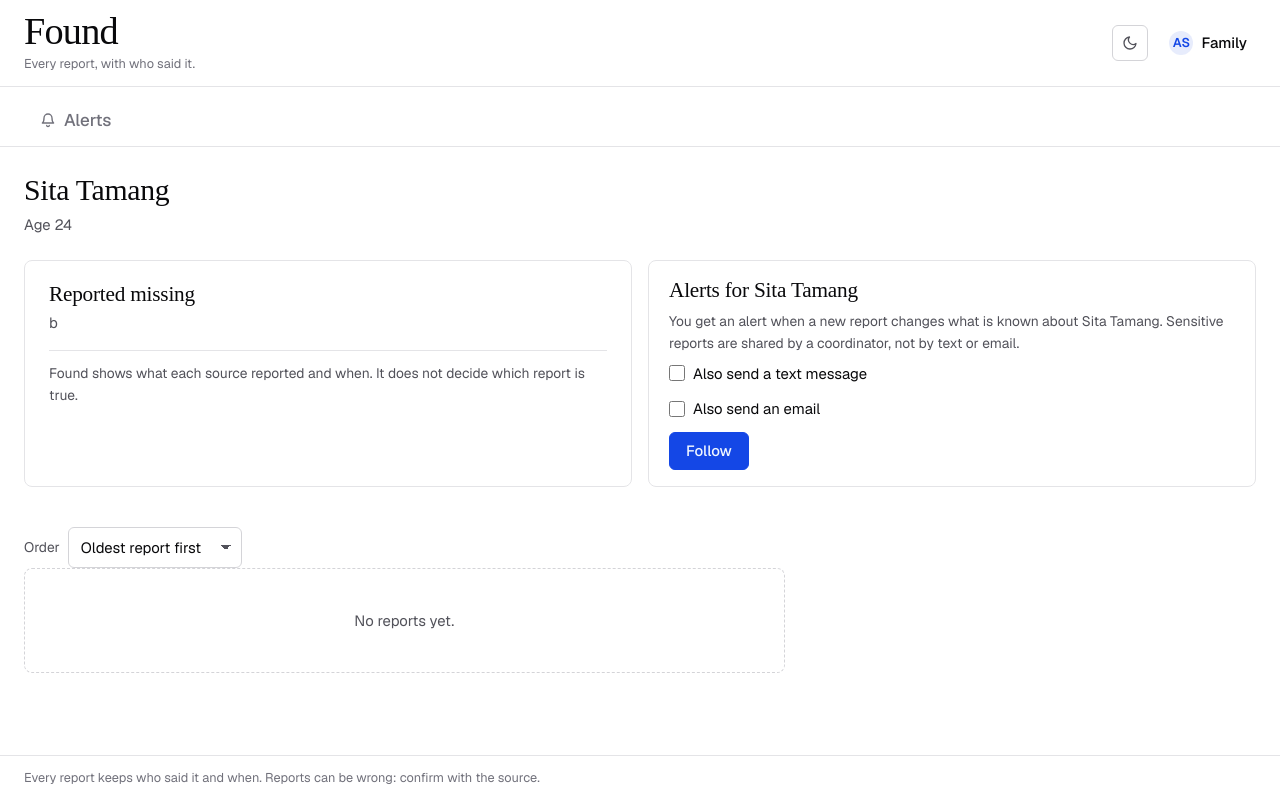
follow panel › follows with a text message and then shows how alerts arrive
Click the checkbox labelled "Also send a text message" at (677, 374), box top-left (669, 366), bottom-right (685, 382)
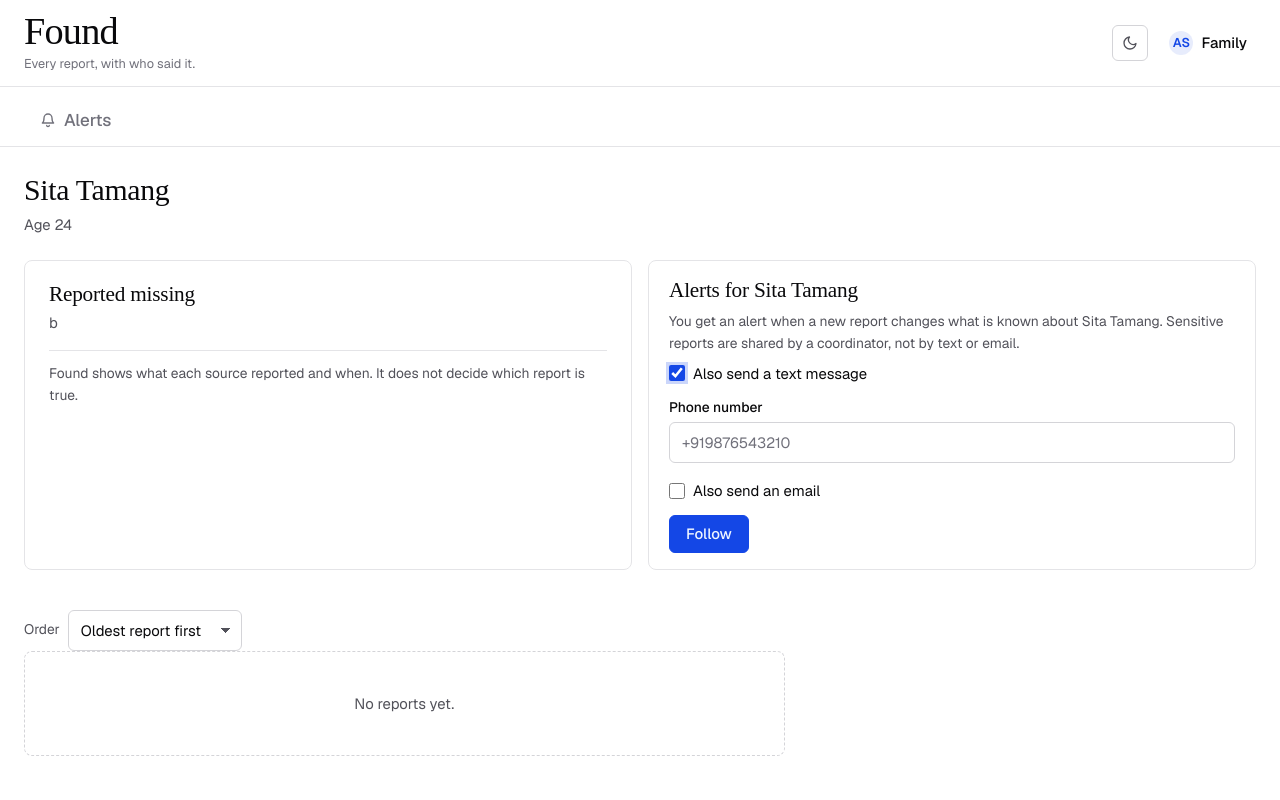
Type "98765" into the field labelled "Phone number" at (952, 443), box top-left (669, 422), bottom-right (1235, 463)
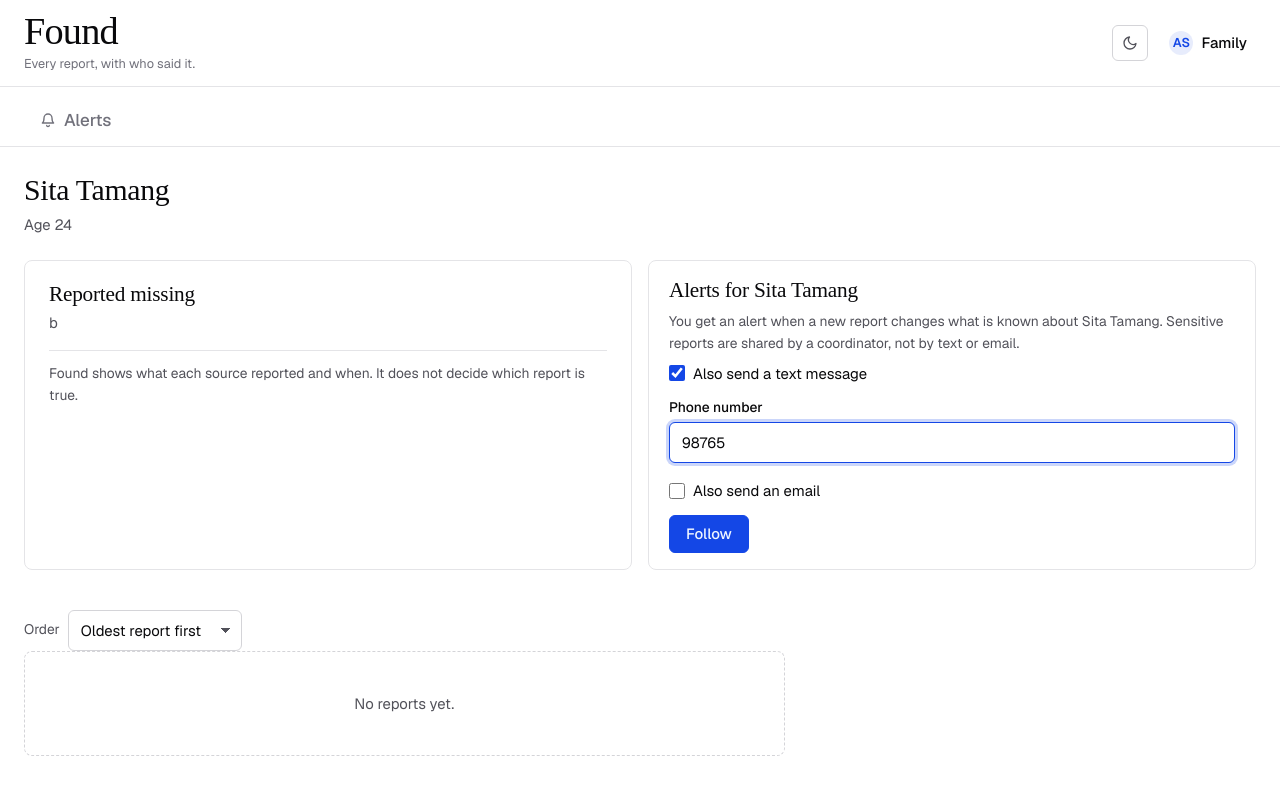
Click the button "Follow" at (709, 534), box top-left (669, 514), bottom-right (749, 552)
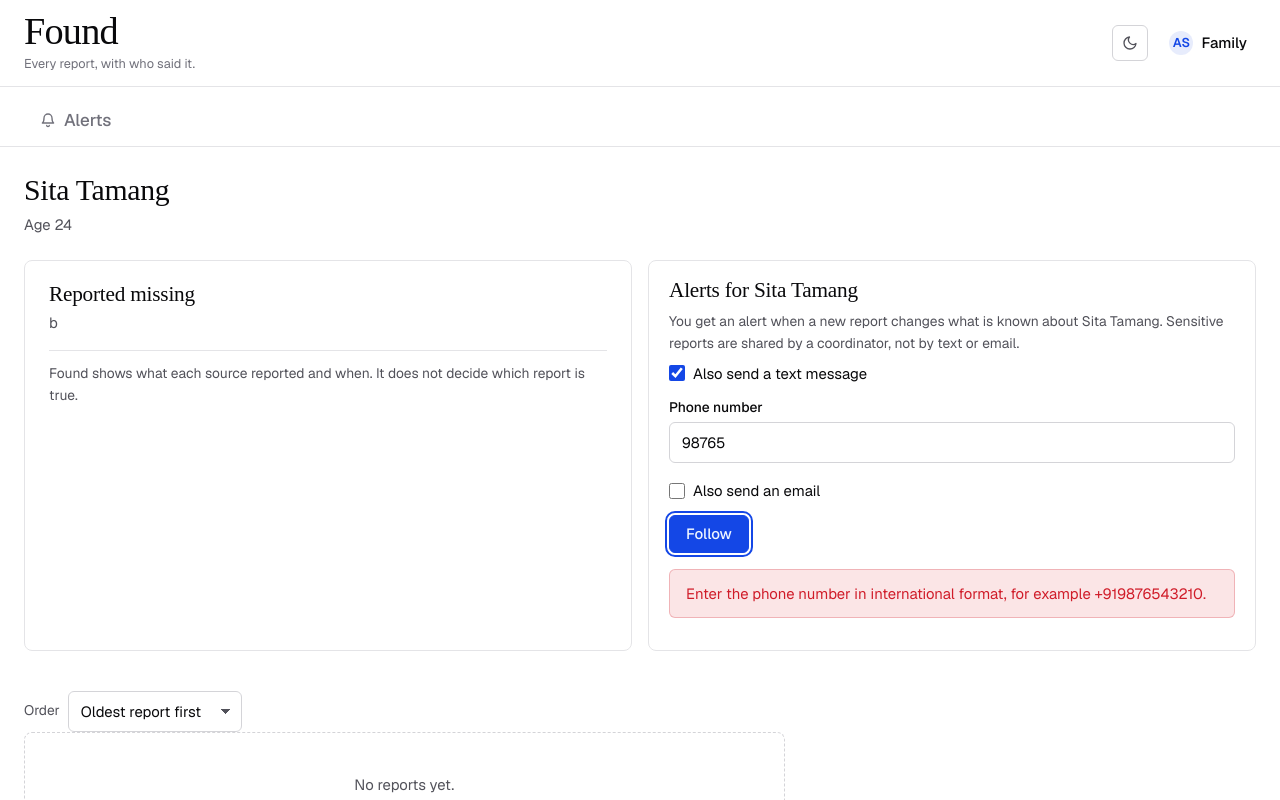
Check: the message shows "international format", box top-left (686, 584), bottom-right (1206, 602)
Replace the text in the field labelled "Phone number" with "+919876543210" at (952, 443), box top-left (669, 422), bottom-right (1235, 463)
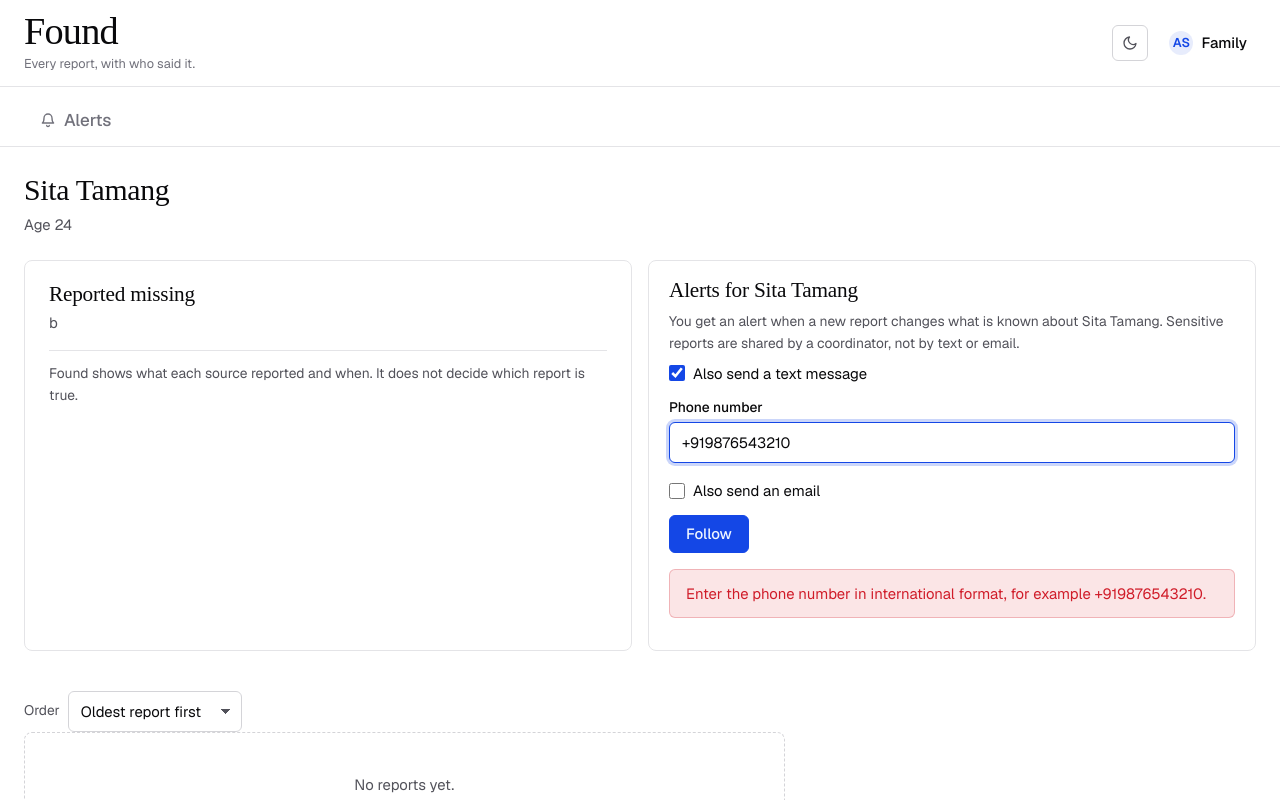
Click the button "Follow" at (709, 534), box top-left (669, 514), bottom-right (749, 552)
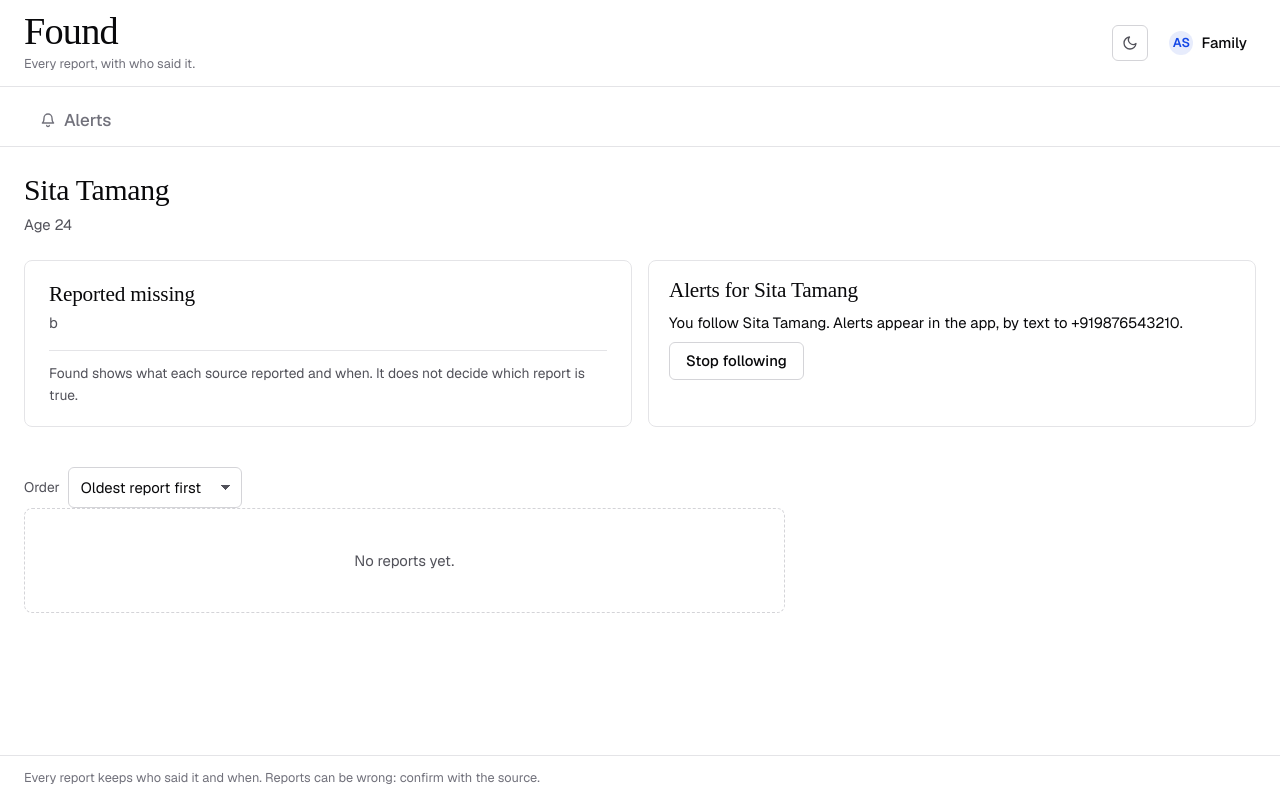
Check: the text "You follow Sita Tamang" shows "by text to +919876543210", box top-left (996, 313), bottom-right (1180, 332)
